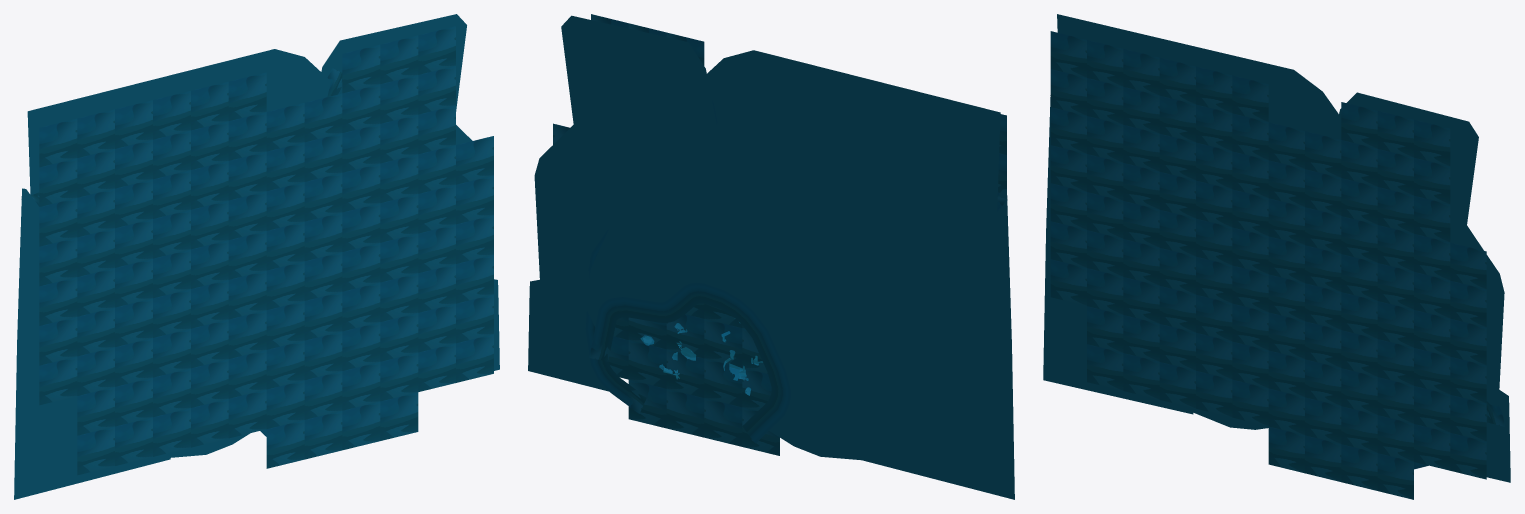
File: Sector_9.fbx
3 views of the same model, side by side, from view 1: azimuth 30°, elevation 25°; view 2: azimuth 150°, elevation 25°; view 3: azimuth 330°, elevation 25° (orthographic). The views are drawn at different scales.
Visible parts, largest first — view 1: Sector_9; view 2: Sector_9; view 3: Sector_9.
Part boxes in pixels (box(x1,y1,x2,y2)): Sector_9: box(14, 14, 499, 499); Sector_9: box(528, 14, 1014, 499); Sector_9: box(1043, 14, 1510, 499).
Size of the model in its own units: 657598 by 528146 by 23500.
1 material, 1 textured.
